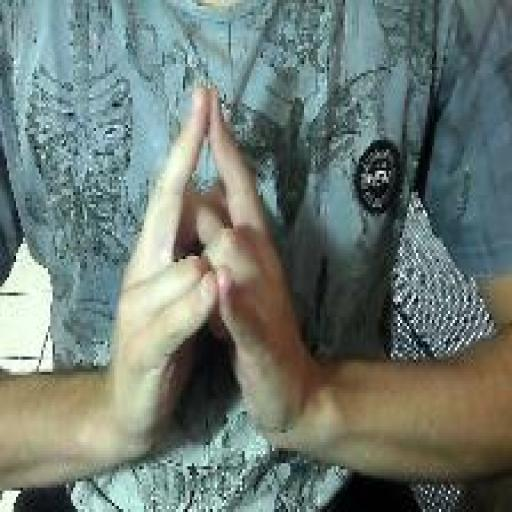Tori -bird-: (108, 78, 308, 458)
